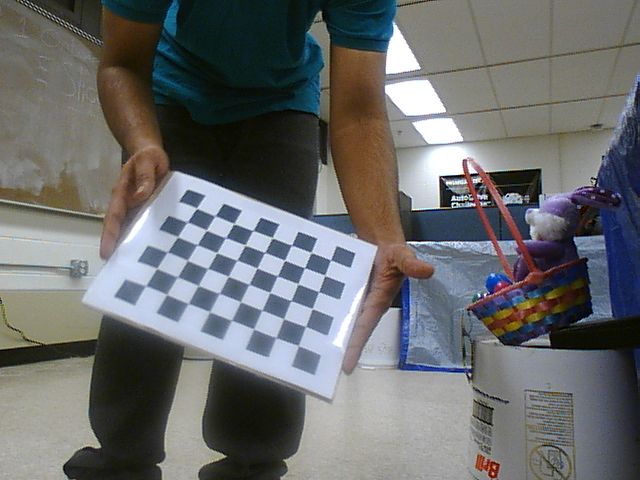bunny: (449, 149, 612, 347)
